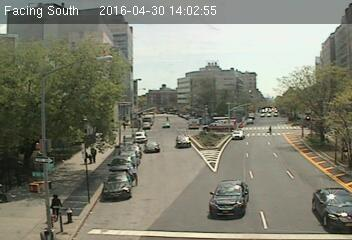neg: (16, 105, 38, 134), (307, 118, 328, 146), (133, 171, 153, 198), (151, 39, 171, 66), (155, 102, 174, 127), (82, 93, 101, 117), (25, 61, 43, 85), (193, 87, 211, 110), (158, 197, 176, 220), (237, 149, 254, 171), (239, 81, 255, 102), (198, 137, 214, 158), (205, 192, 221, 212), (302, 175, 317, 195), (33, 154, 48, 173), (82, 49, 97, 68), (175, 134, 189, 153), (303, 86, 317, 105), (249, 184, 263, 203), (100, 177, 114, 195), (67, 208, 79, 224)
pos: (47, 193, 67, 218), (88, 144, 101, 162), (267, 123, 277, 137)
